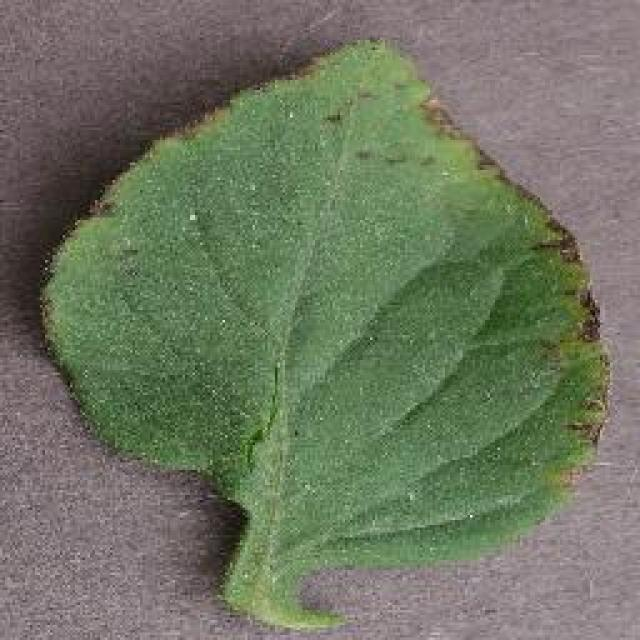Tomato___Bacterial_spot: (40, 36, 613, 636)
